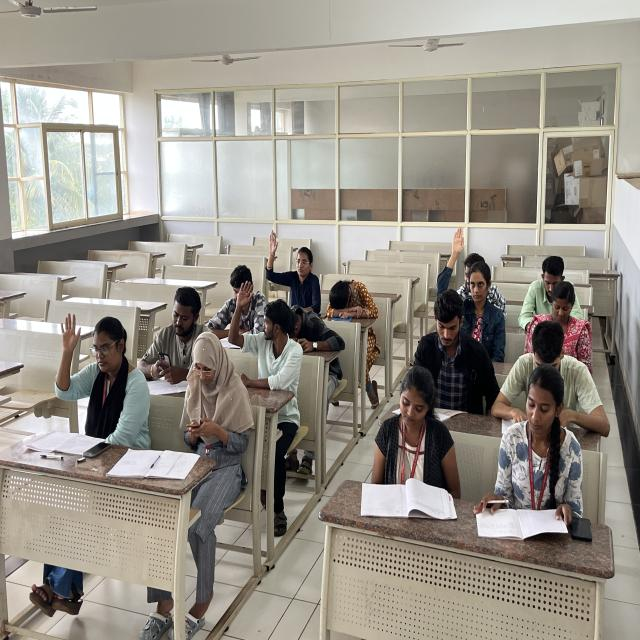Hand Rising: (46, 307, 147, 439), (434, 224, 508, 329), (227, 282, 299, 379), (264, 232, 323, 305)
Reading: (487, 350, 582, 530), (354, 371, 455, 513)
Sleeping: (288, 297, 344, 352), (321, 276, 380, 320)
Using Phone: (177, 327, 248, 440)
